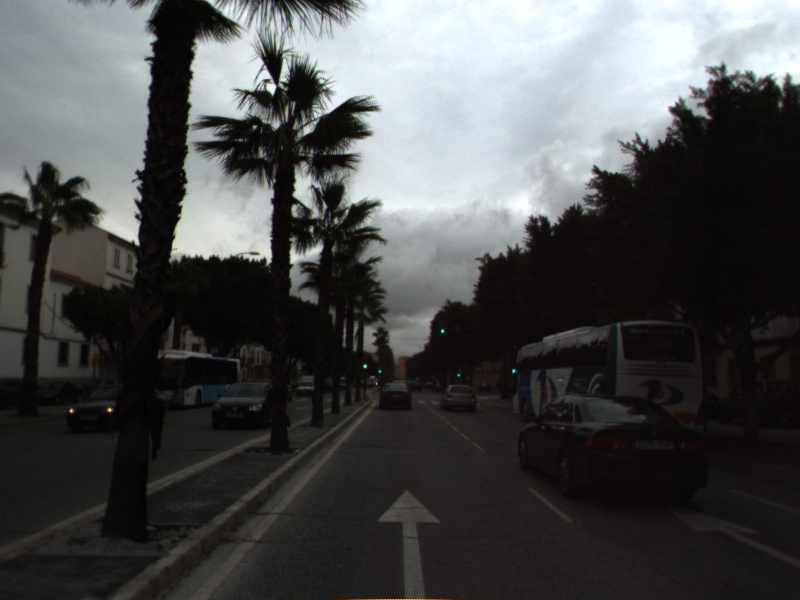STRAIGHT: (668, 503, 800, 570), (372, 484, 446, 600)
